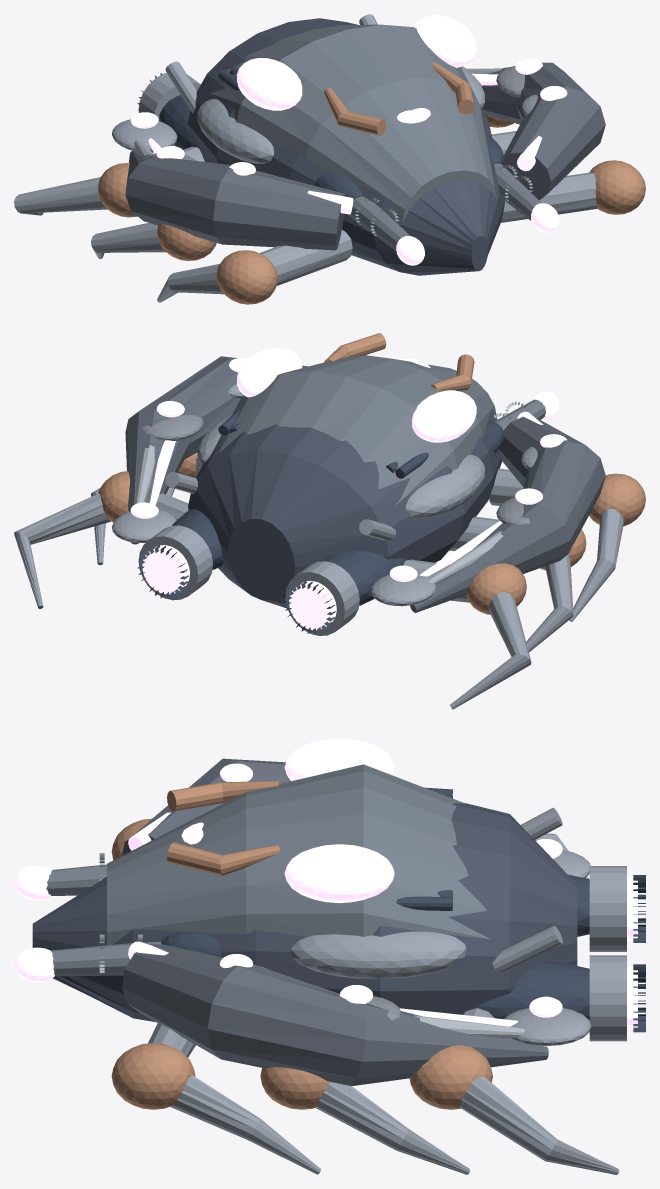
Rendered from npc_lordakia.glb.
The picture shows the model from 3 angles, top to bottom: view 1: azimuth 30°, elevation 25°; view 2: azimuth 150°, elevation 25°; view 3: azimuth 270°, elevation 25°; orthographic projection. The views are drawn at different scales.
Visible parts, largest first — view 1: upper_armor_scar, armored_scythe_-1, keel_pressure_hull, armored_scythe_1, vrx_spider_leg_-1_0, vrx_venom_cell_-1, heavy_shield_pad_-1, vrx_joint_-1_0, vrx_spider_leg_-1_2, vrx_joint_1_0, vrx_venom_cell_1, vrx_spider_leg_1_0 (+17 smaller); view 2: keel_pressure_hull, upper_armor_scar, armored_scythe_-1, armored_scythe_1, vrx_spider_leg_1_2, vrx_spider_leg_-1_2, vrx_spider_leg_-1_0, heavy_shield_pad_-1, vrx_venom_cell_-1, vrx_spider_leg_-1_1, exhaust_coil_-1, exhaust_coil_1 (+21 smaller); view 3: upper_armor_scar, keel_pressure_hull, armored_scythe_1, heavy_shield_pad_1, vrx_venom_cell_1, vrx_spider_leg_1_2, vrx_spider_leg_1_0, vrx_joint_1_0, vrx_spider_leg_1_1, engine_armor_1, vrx_joint_1_2, exhaust_coil_1 (+21 smaller).
Boxes of the visible parts, x1,y1,x2,y2 form: upper_armor_scar: (208,24,496,222); armored_scythe_-1: (125,150,345,250); keel_pressure_hull: (188,18,504,275); armored_scythe_1: (481,62,605,200); vrx_spider_leg_-1_0: (157,230,352,302); vrx_venom_cell_-1: (237,58,302,110); heavy_shield_pad_-1: (197,99,273,163); vrx_joint_-1_0: (216,250,277,304); vrx_spider_leg_-1_2: (14,146,204,215); vrx_joint_1_0: (589,160,645,214); vrx_venom_cell_1: (413,15,476,67); vrx_spider_leg_1_0: (501,172,597,222); keel_pressure_hull: (188,410,501,608); upper_armor_scar: (204,355,496,505); armored_scythe_-1: (410,416,605,612); armored_scythe_1: (125,356,308,544); vrx_spider_leg_1_2: (14,493,188,608); vrx_spider_leg_-1_2: (403,559,531,709); vrx_spider_leg_-1_0: (489,468,623,621); heavy_shield_pad_-1: (406,454,484,518); vrx_venom_cell_-1: (411,390,476,442); vrx_spider_leg_-1_1: (449,516,573,652); exhaust_coil_-1: (285,561,359,635); exhaust_coil_1: (138,525,212,600); upper_armor_scar: (107,764,490,945); keel_pressure_hull: (32,803,577,1021); armored_scythe_1: (122,944,548,1085); heavy_shield_pad_1: (290,931,466,978); vrx_venom_cell_1: (284,844,394,903); vrx_spider_leg_1_2: (460,1008,618,1174); vrx_spider_leg_1_0: (148,1023,320,1174); vrx_joint_1_0: (111,1043,195,1109); vrx_spider_leg_1_1: (315,1082,469,1174); engine_armor_1: (475,961,589,1019); vrx_joint_1_2: (409,1045,492,1109); exhaust_coil_1: (589,955,626,1041).
Size of the model in its own units: 3.2 by 1.24 by 2.71.
